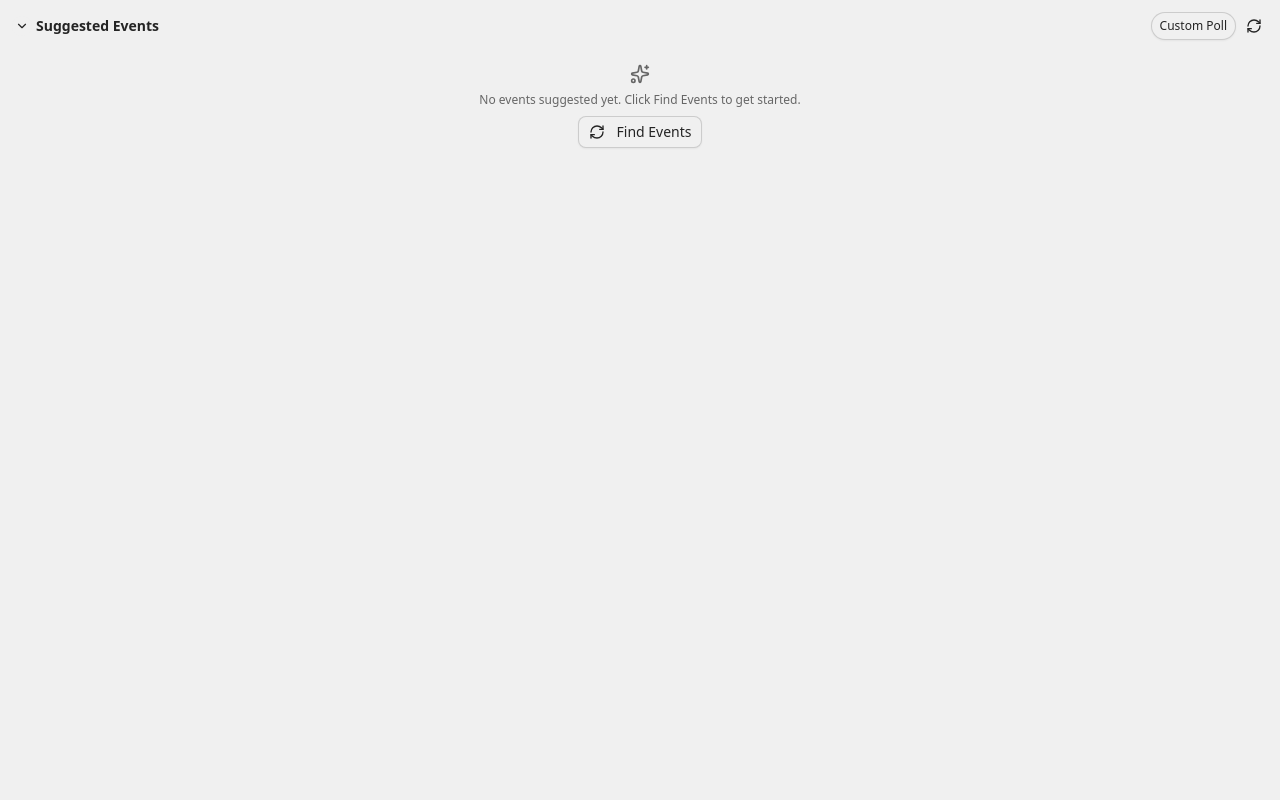
Scenario: includes user-created custom events in the custom poll dialog
Click the button "Custom Poll" at (1193, 26), box x1=1151 y1=12 x2=1236 y2=40
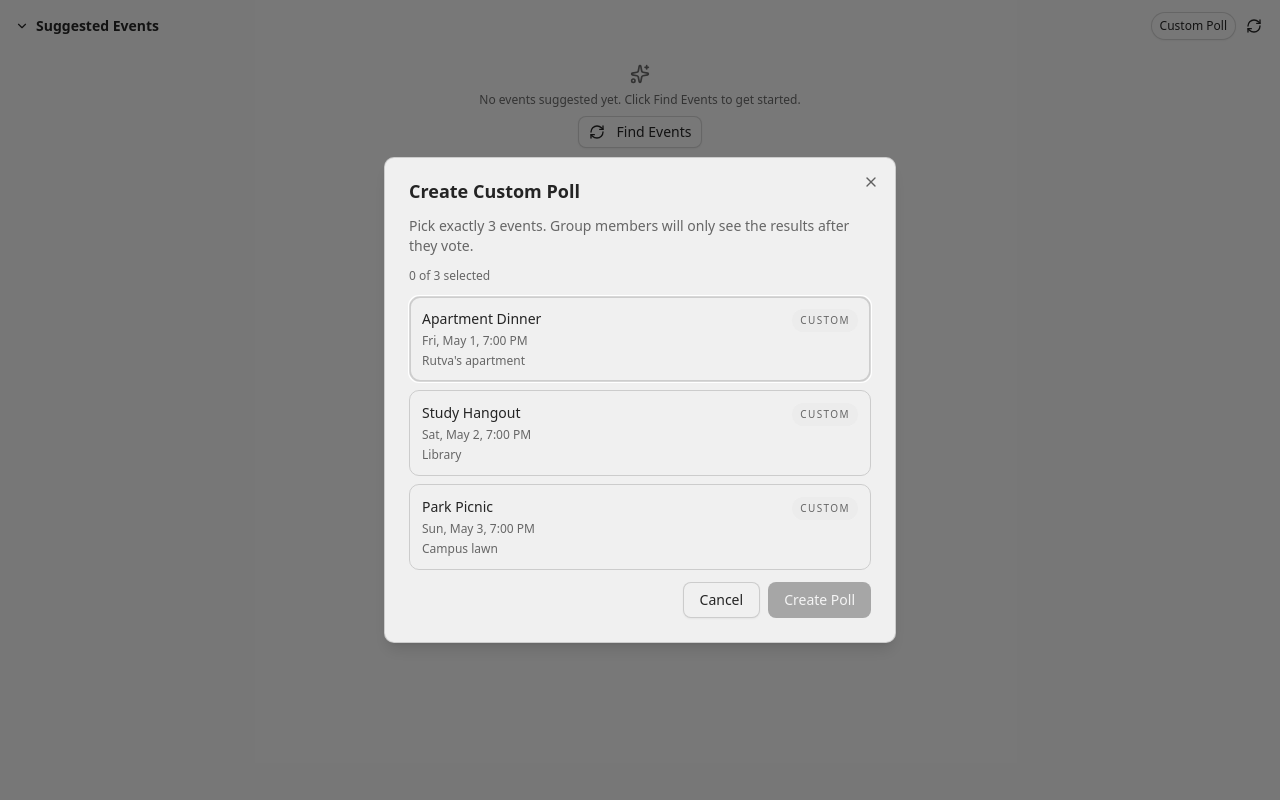
Expected: the button "Apartment Dinner" is shown, x1=409 y1=296 x2=871 y2=382
Expected: the button "Study Hangout Sat, May 2, 7:00 PM Library Custom" is shown, x1=409 y1=390 x2=871 y2=476
Expected: the button "Park Picnic Sun, May 3, 7:00 PM Campus lawn Custom" is shown, x1=409 y1=484 x2=871 y2=570
